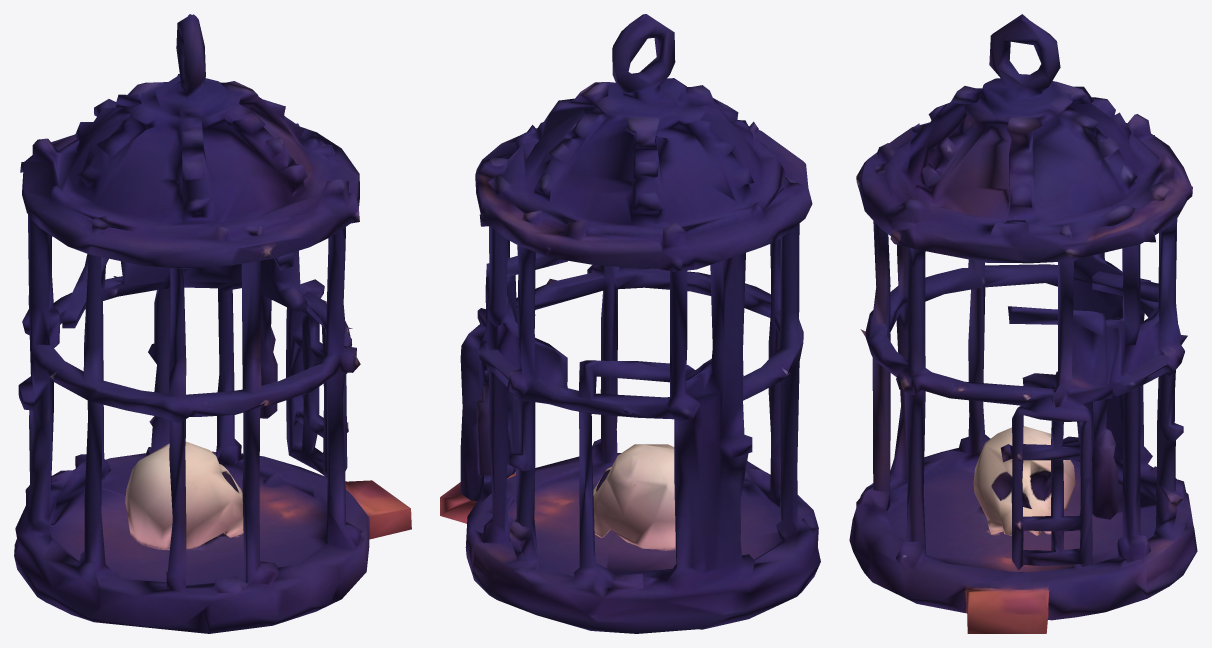
Rendered from cr_cage-DXO3pkel.glb.
3 views of the same model, side by side, from view 1: azimuth 30°, elevation 25°; view 2: azimuth 150°, elevation 25°; view 3: azimuth 270°, elevation 25° (orthographic). The views are drawn at different scales.
Parts seen in each view (by area): view 1: tripo_node_460f3c4d-ae66-45d4-a18b-03f5005ad172; view 2: tripo_node_460f3c4d-ae66-45d4-a18b-03f5005ad172; view 3: tripo_node_460f3c4d-ae66-45d4-a18b-03f5005ad172.
Boxes of the visible parts, x1,y1,x2,y2 form: tripo_node_460f3c4d-ae66-45d4-a18b-03f5005ad172: [14, 14, 411, 633]; tripo_node_460f3c4d-ae66-45d4-a18b-03f5005ad172: [440, 14, 820, 633]; tripo_node_460f3c4d-ae66-45d4-a18b-03f5005ad172: [849, 14, 1197, 633].
Bounding box in the file's own units: 1.73 × 2.6 × 1.54.
Materials: 1 (1 with a texture image).
